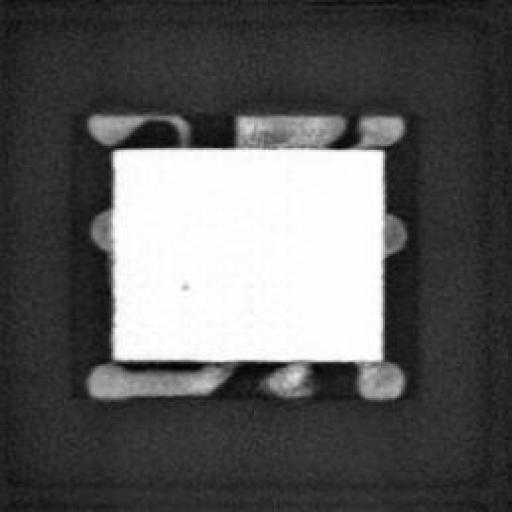DIE_INK: (172, 275, 190, 292)
